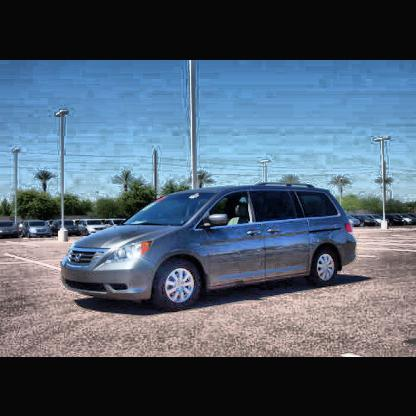Honda Odyssey Minivan 2007: (61, 184, 357, 308)
